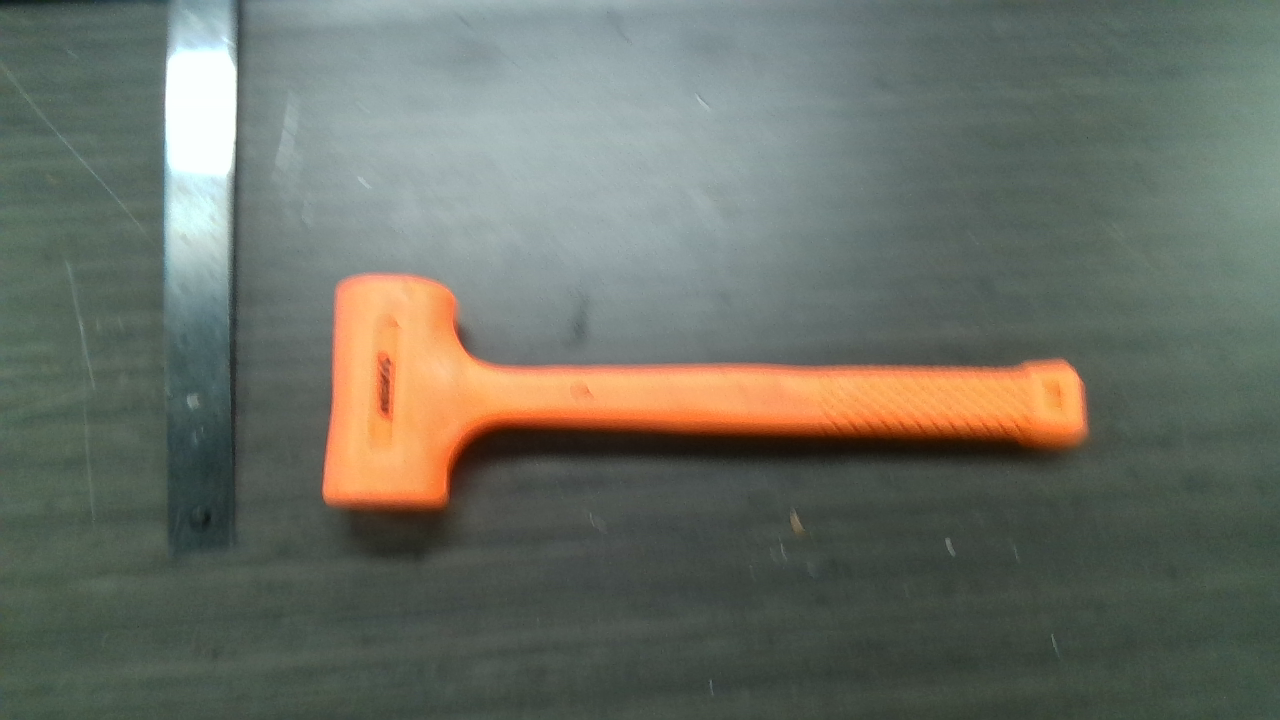Orange Hammer: (331, 274, 1088, 511)
